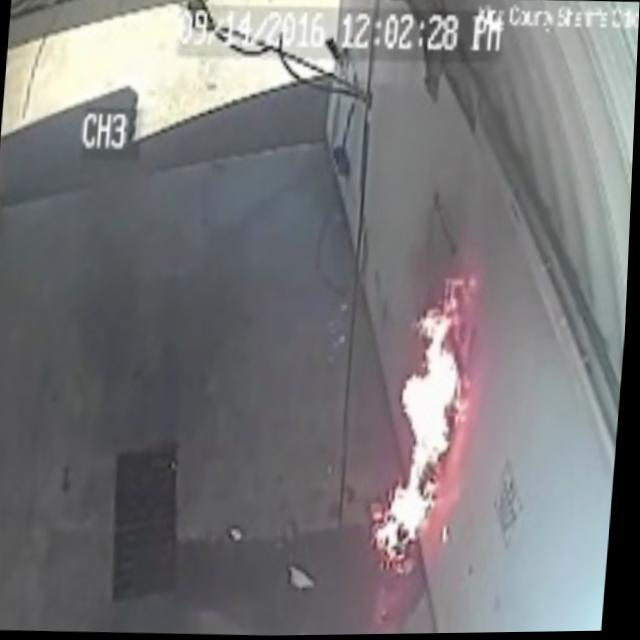fire: (399, 266, 489, 455), (388, 458, 438, 568), (366, 498, 395, 567)
